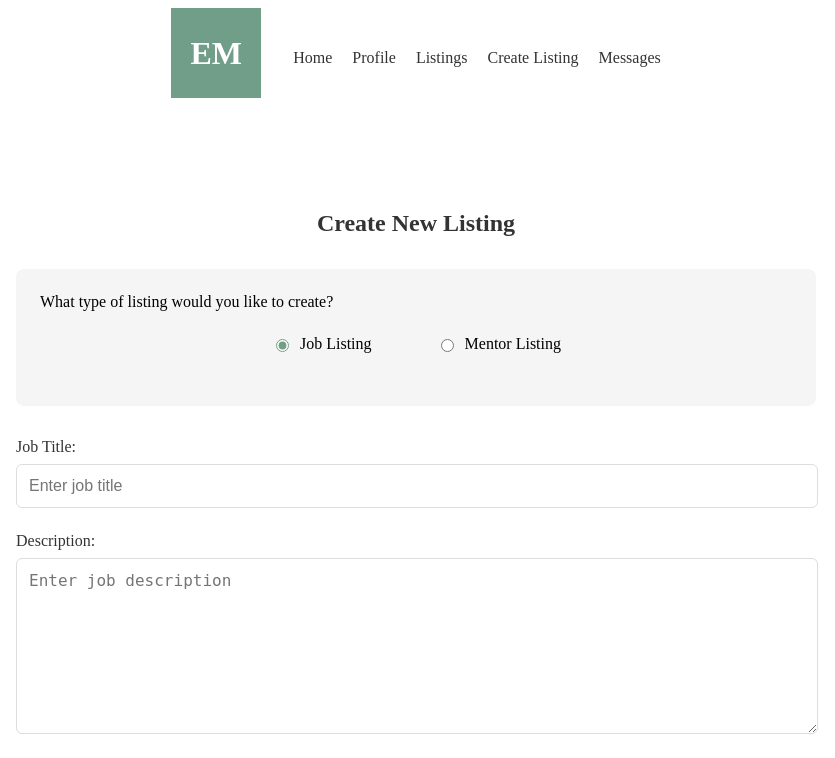
CreateListing Component › should display success message on successful save
The image size is (835, 758).
Type "Test Job" into the field labelled "Job Title:".
click(417, 486); type("Test Job")  # box [16,464,818,508]
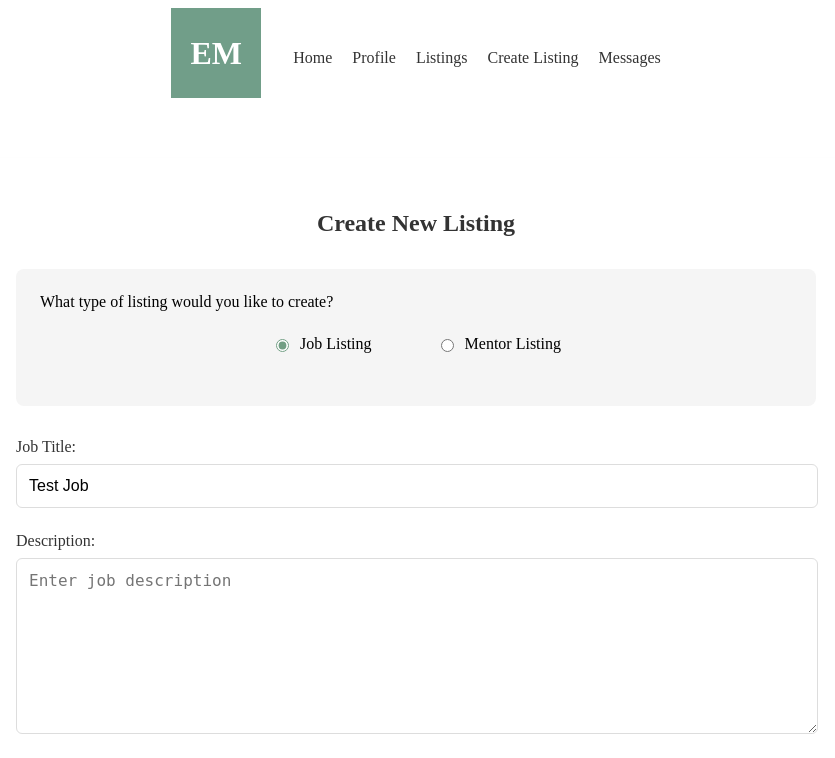
Type "Test Description" into the text box labelled "Description:".
click(417, 646); type("Test Description")  # box [16,558,818,734]
(page scrolled)
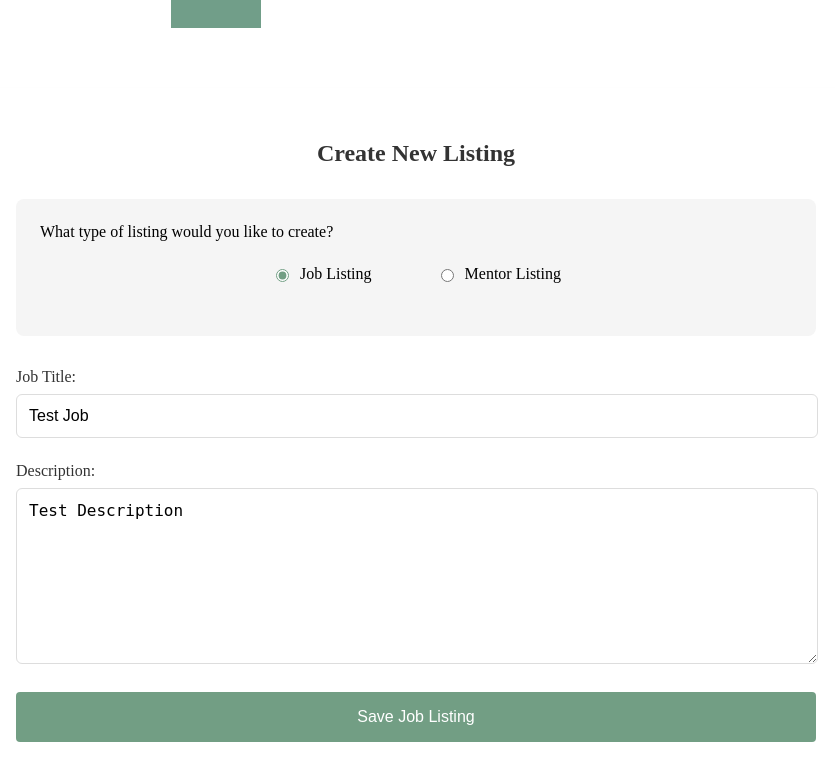
Click the button "Save Job Listing".
click(416, 717)  # box [16,692,816,742]
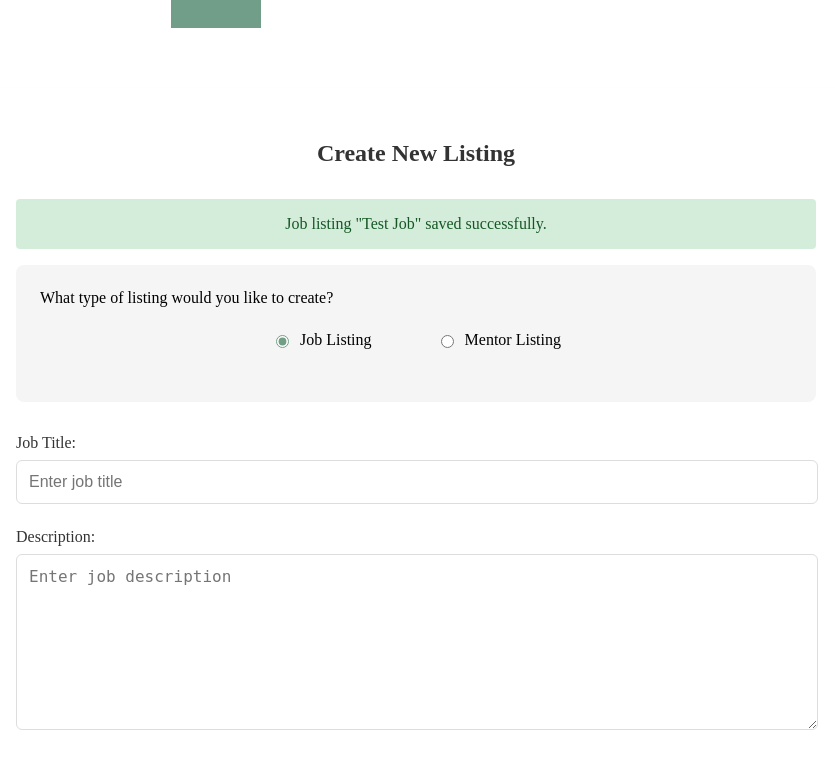
Check: the text "Job listing \"Test Job\" saved successfully." is shown, box [16,199,816,249]
